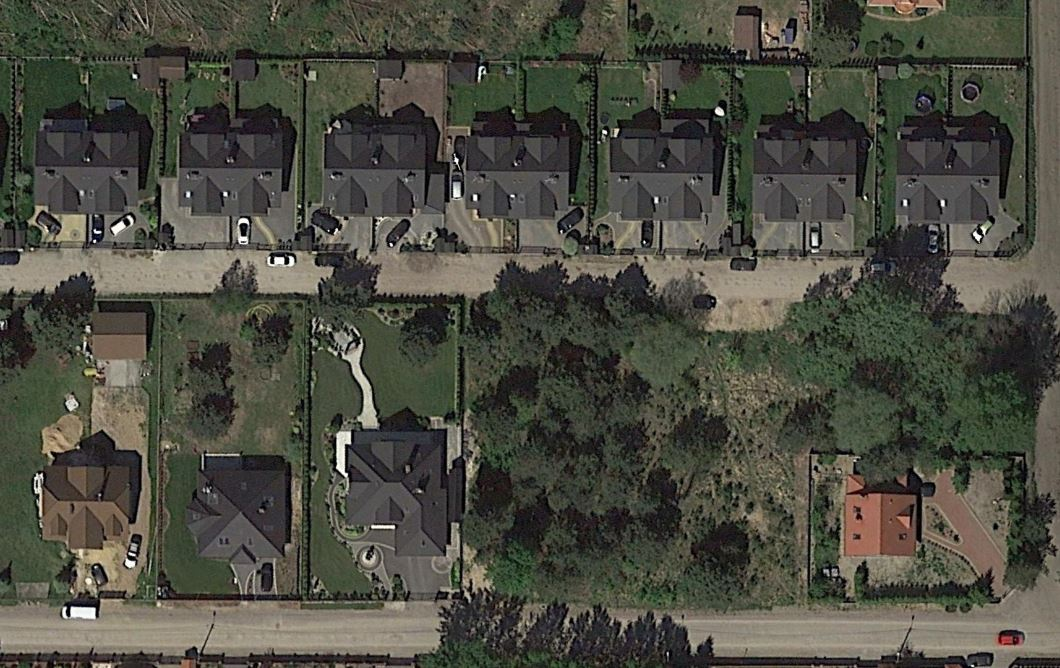family house: (342, 428, 450, 564), (185, 457, 292, 572), (33, 450, 138, 557), (833, 481, 935, 563)
garage: (81, 309, 154, 371)
terrace house: (453, 110, 593, 230), (169, 111, 296, 223), (24, 108, 146, 223), (605, 115, 728, 227), (313, 115, 434, 228), (745, 123, 866, 230), (893, 117, 1009, 228)
